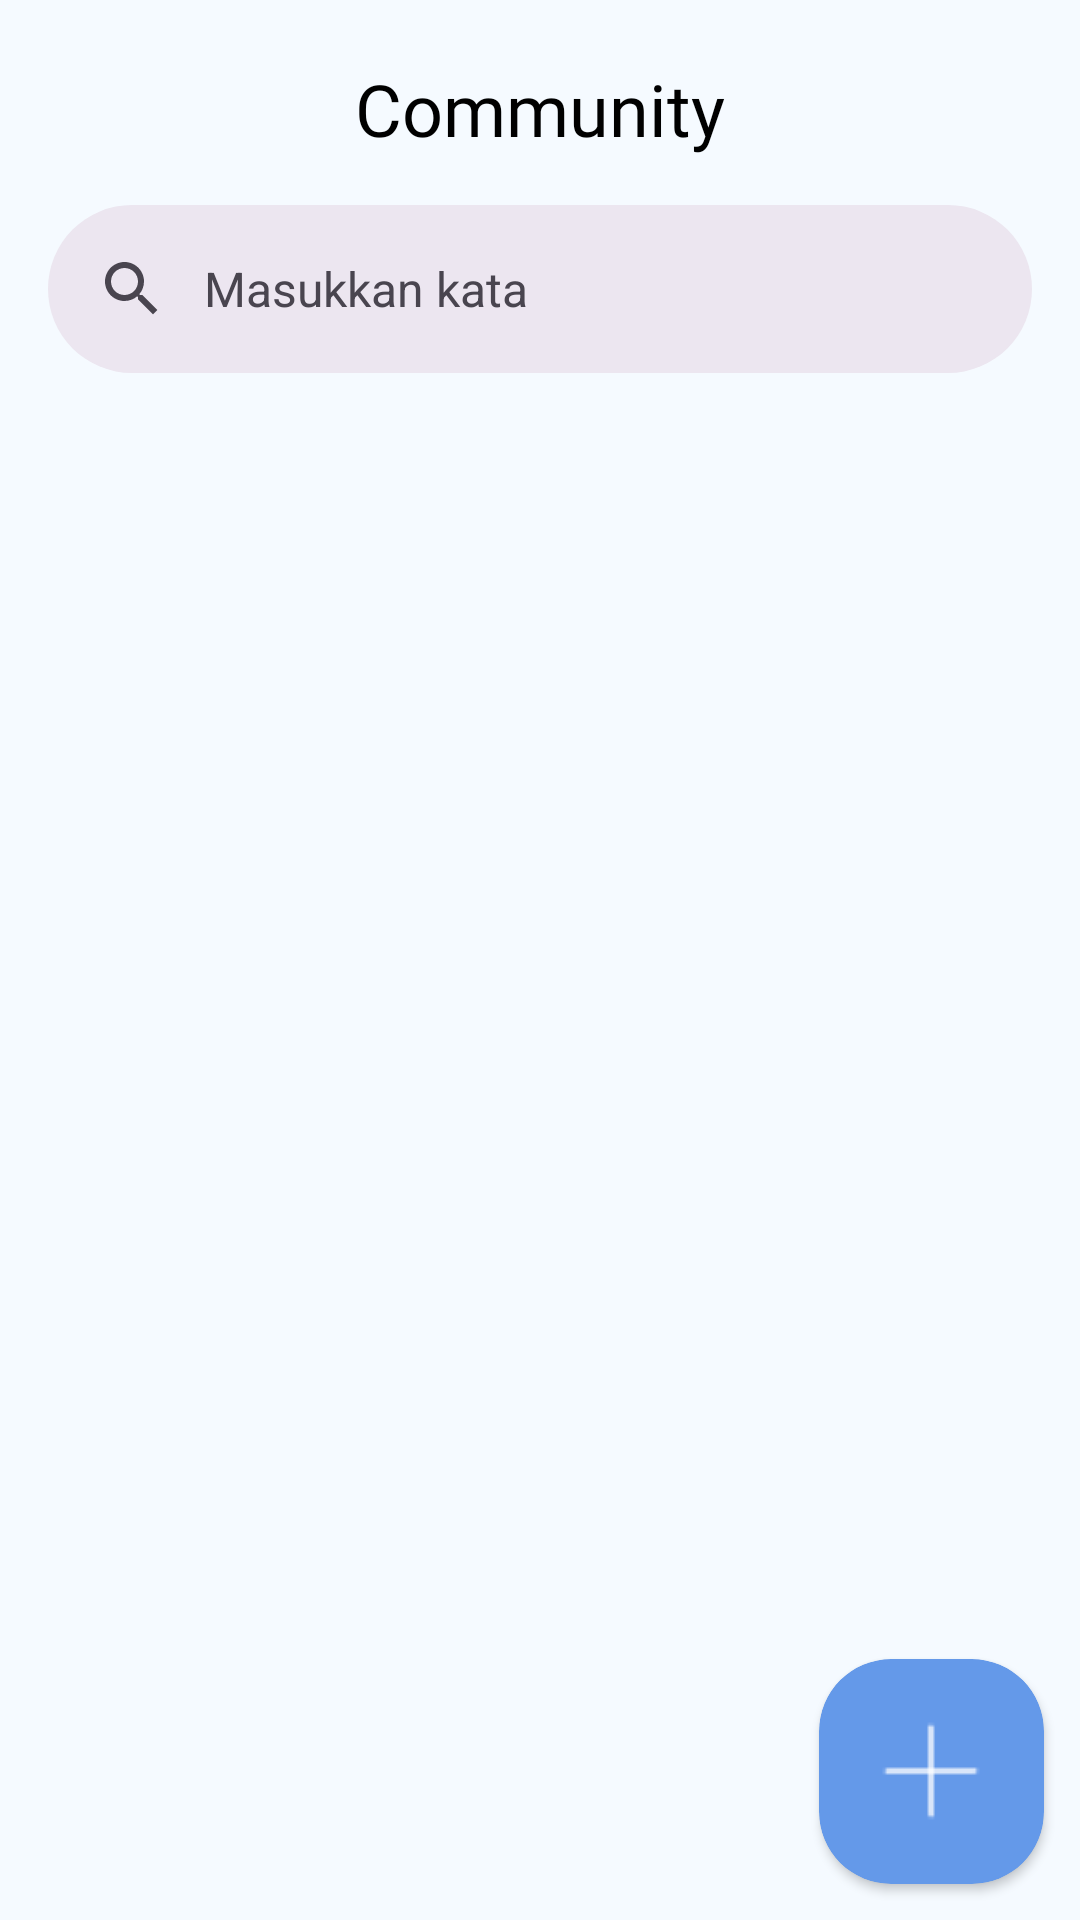

Where icons sit on this 1080x1920 app screen, as [x1,y1,x2,y2]:
plus: [884,1724,978,1818]
